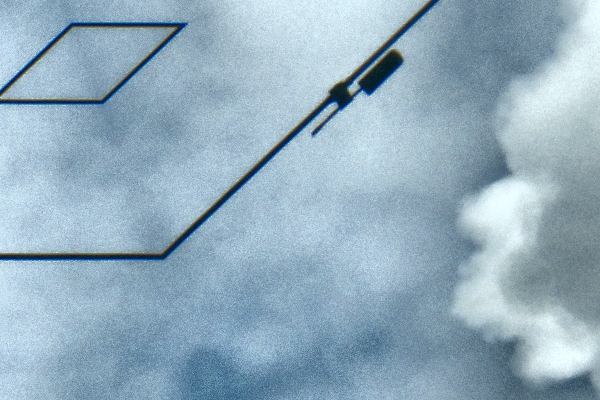damper_defect: (306, 47, 404, 139)
